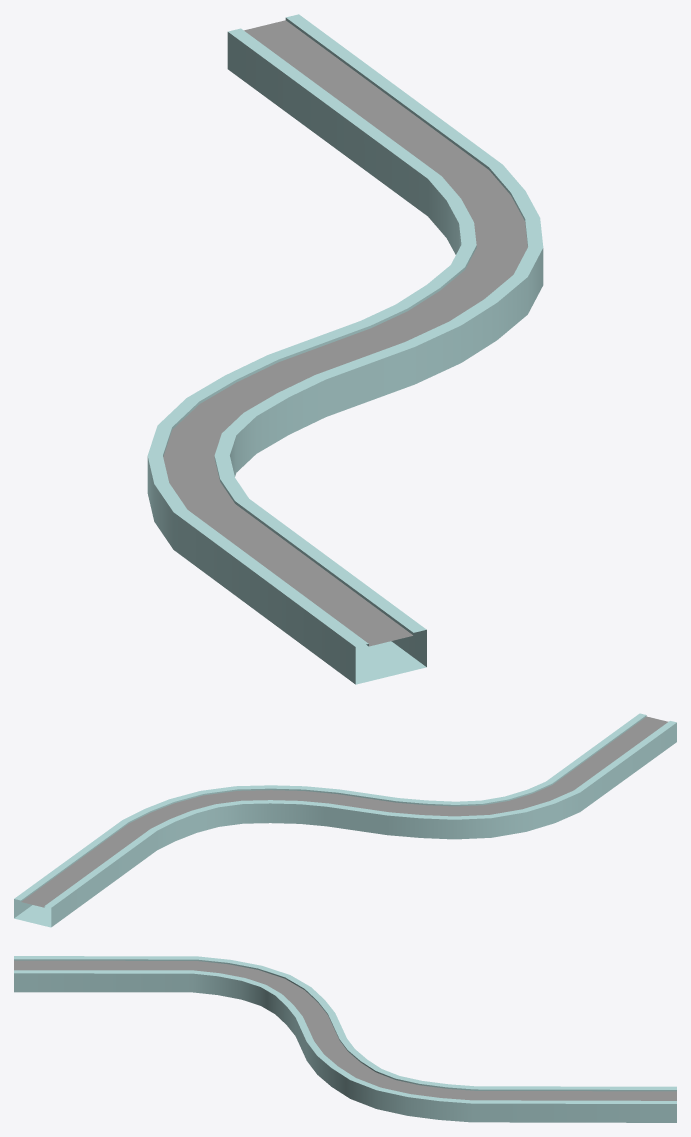
The model's file is curve_right#2.fbx.
The picture shows the model from 3 angles, top to bottom: view 1: azimuth 30°, elevation 25°; view 2: azimuth 150°, elevation 25°; view 3: azimuth 270°, elevation 25°; orthographic projection. The views are drawn at different scales.
Visible parts, largest first — view 1: curve_right#2; view 2: curve_right#2; view 3: curve_right#2.
Part boxes in pixels (x1,y1,x2,y2): curve_right#2: [147, 14, 543, 684]; curve_right#2: [14, 713, 676, 927]; curve_right#2: [14, 956, 676, 1122].
Bounding box in the file's own units: 1731 × 104 × 3279.
